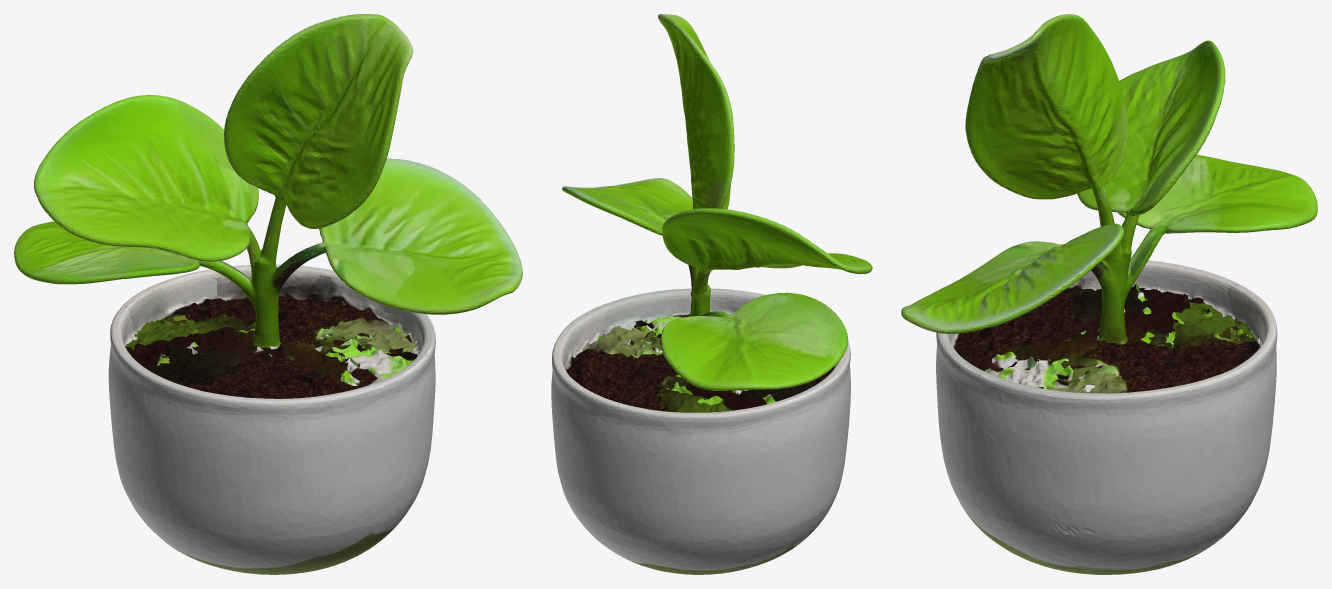
The model's file is biomechanical-growth-planter-generated-2026-04-18T02-42-42-855Z.medium.glb.
3 views of the same model, side by side, from view 1: azimuth 30°, elevation 25°; view 2: azimuth 150°, elevation 25°; view 3: azimuth 270°, elevation 25° (orthographic). The views are drawn at different scales.
Parts seen in each view (by area): view 1: temp_mesh.ply; view 2: temp_mesh.ply; view 3: temp_mesh.ply.
Boxes of the visible parts, <box> form: temp_mesh.ply: <box>14,14,522,574</box>; temp_mesh.ply: <box>551,14,872,574</box>; temp_mesh.ply: <box>901,14,1317,574</box>.
Size of the model in its own units: 1.48 by 1.97 by 1.34.
1 material, 1 textured.
